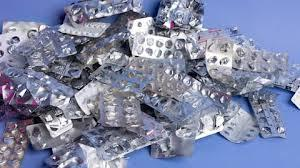pill_Strip: (84, 126, 164, 159), (26, 118, 96, 149), (248, 91, 285, 137), (65, 0, 141, 22), (0, 119, 32, 167), (220, 108, 258, 142), (59, 17, 110, 37), (39, 109, 72, 137)
